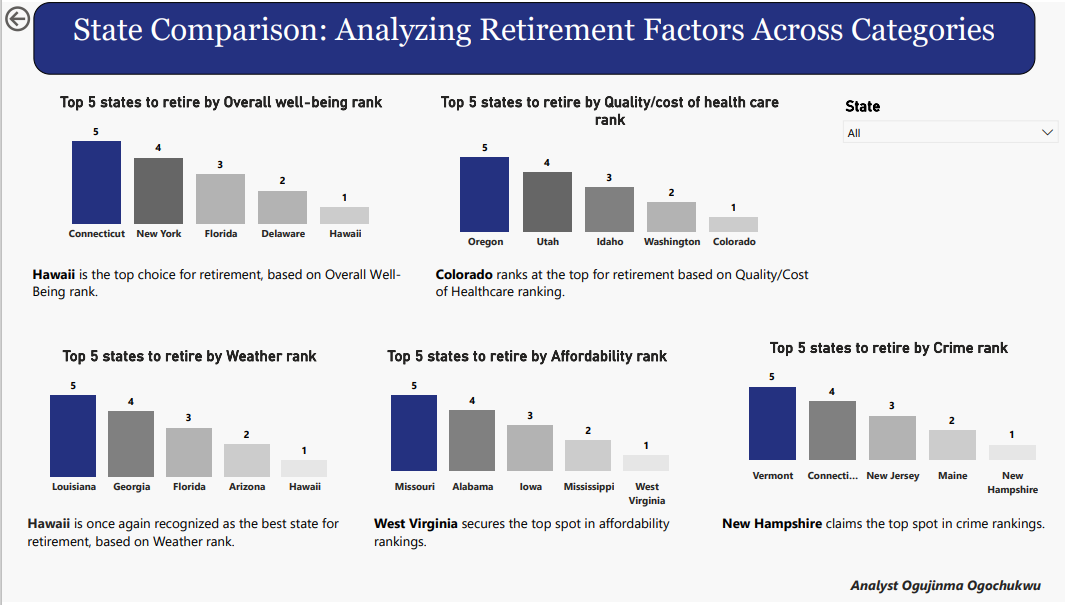

The dashboard page shown, as its layout file describes it:
{"tool":"powerbi","page":{"name":"Analysis by other Categories","canvas":[1280,720],"ordinal":1},"visuals":[{"type":"clusteredColumnChart","title":"Top 5 states to retire by Affordability rank","fields":{"Category":["Places_to_retire.State"],"Y":["Sum(Places_to_retire.Affordability rank)"]},"box":[425.7,414.3,411.4,198.6],"z":0},{"type":"textbox","box":[38.6,0,1202.9,87.1],"z":1000},{"type":"clusteredColumnChart","title":"Top 5 states to retire by Overall well-being  rank","fields":{"Category":["Places_to_retire.State"],"Y":["Sum(Places_to_retire.Well-being rank)"]},"box":[50,108.6,428.6,187.1],"z":2000},{"type":"clusteredColumnChart","title":"Top 5 states to retire by Quality/cost of health care rank","fields":{"Category":["Places_to_retire.State"],"Y":["Sum(Places_to_retire.Quality/cost of health care rank)"]},"box":[517.1,108.6,428.6,197.1],"z":3000},{"type":"actionButton","box":[0,0,100,40],"z":4000},{"type":"clusteredColumnChart","title":"Top 5 states to retire by Weather rank","fields":{"Category":["Places_to_retire.State"],"Y":["Sum(Places_to_retire.Weather rank)"]},"box":[27.1,414.3,398.6,185.7],"z":5000},{"type":"clusteredColumnChart","title":"Top 5 states to retire by Crime rank","fields":{"Category":["Places_to_retire.State"],"Y":["Sum(Places_to_retire.Crime rank)"]},"box":[854.3,404.3,424.3,195.7],"z":6000},{"type":"slicer","fields":{"Values":["Places_to_retire.State"]},"box":[1001.4,108.6,278.6,110],"z":7000},{"type":"textbox","box":[27.1,610,387.1,54.3],"z":8000},{"type":"textbox","box":[442.9,610,411.4,54.3],"z":9000},{"type":"textbox","box":[861.4,610,410,51.4],"z":10000},{"type":"textbox","box":[517.1,310,464.3,57.1],"z":11000},{"type":"textbox","box":[32.9,310,461.4,57.1],"z":12000},{"type":"textbox","box":[1011.4,684.3,268.6,35.7],"z":13000},{"type":"qnaVisual","box":[861.4,570,150,150],"z":13001},{"type":"qnaVisual","box":[861.4,570,150,150],"z":13002},{"type":"qnaVisual","box":[861.4,570,150,150],"z":13003},{"type":"qnaVisual","box":[861.4,570,150,150],"z":13004}]}

Visuals, with their boxes in screenshot pixels (x1, y1, x2, y2), scaled from the page's 1280x720 canvas onto the 1065x605 screenshot:
"Top 5 states to retire by Affordability rank" clusteredColumnChart: BBox(354, 348, 696, 515)
textbox: BBox(32, 0, 1033, 73)
"Top 5 states to retire by Overall well-being  rank" clusteredColumnChart: BBox(42, 91, 398, 248)
"Top 5 states to retire by Quality/cost of health care rank" clusteredColumnChart: BBox(430, 91, 787, 257)
actionButton: BBox(0, 0, 83, 34)
"Top 5 states to retire by Weather rank" clusteredColumnChart: BBox(23, 348, 354, 504)
"Top 5 states to retire by Crime rank" clusteredColumnChart: BBox(711, 340, 1064, 504)
slicer - Places_to_retire.State: BBox(833, 91, 1064, 184)
textbox: BBox(23, 513, 345, 558)
textbox: BBox(369, 513, 711, 558)
textbox: BBox(717, 513, 1058, 556)
textbox: BBox(430, 260, 817, 308)
textbox: BBox(27, 260, 411, 308)
textbox: BBox(842, 575, 1064, 604)
qnaVisual: BBox(717, 479, 842, 604)
qnaVisual: BBox(717, 479, 842, 604)
qnaVisual: BBox(717, 479, 842, 604)
qnaVisual: BBox(717, 479, 842, 604)
